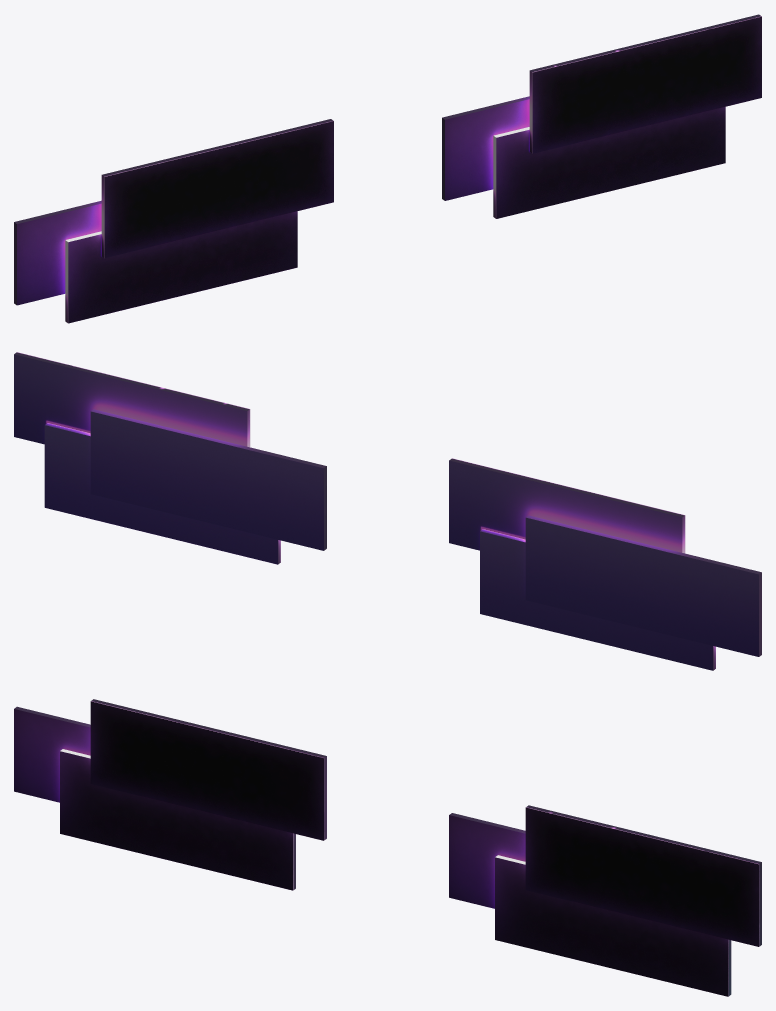
File: WallLights.obj
3 views of the same model, one above another, from view 1: azimuth 30°, elevation 25°; view 2: azimuth 150°, elevation 25°; view 3: azimuth 330°, elevation 25° (orthographic).
Parts seen in each view (by area): view 1: Object_32; view 2: Object_32; view 3: Object_32.
Part boxes in pixels (x1,y1,x2,y2): Object_32: [14, 14, 761, 323]; Object_32: [14, 352, 761, 670]; Object_32: [14, 699, 761, 996].
Bounding box in the file's own units: 4.77 × 0.8676 × 0.1013.
Materials: 1 (1 with a texture image).
